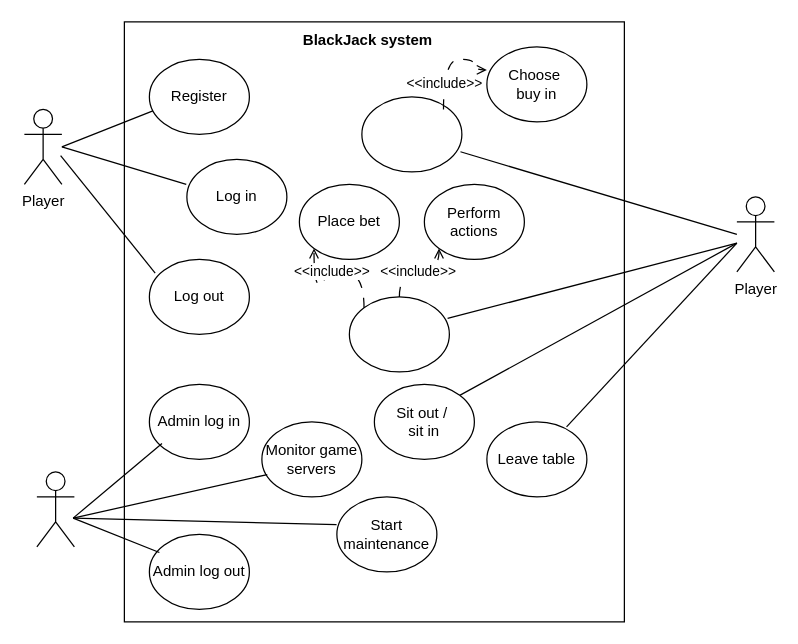
This 798x644 diagram has some shape labels left out. Here are the shapes that lost their labels. From the top down, the box of each, then its label:
(361, 96, 462, 172): Request a table
(348, 296, 449, 372): Play round
(36, 471, 74, 547): Admin
